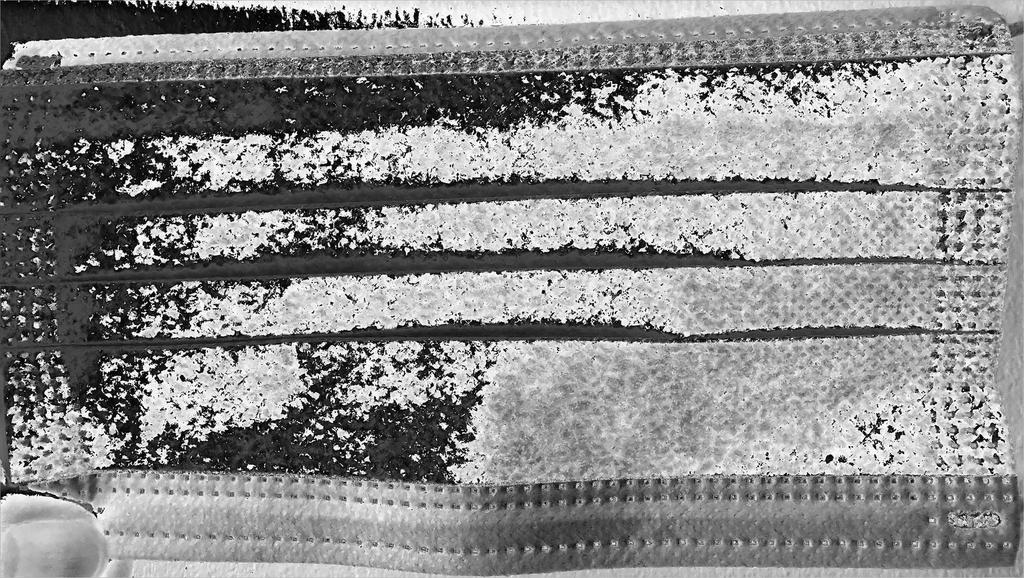High GSM: (2, 52, 1019, 500)
